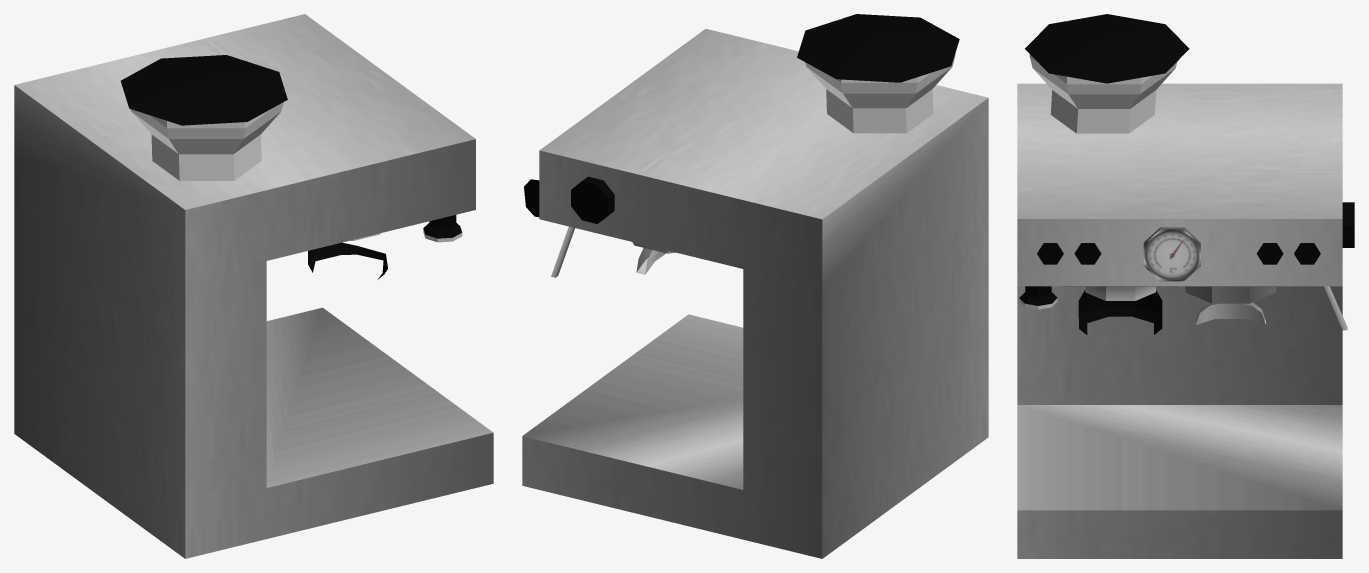
File: Mesin Expresso.fbx
3 views of the same model, side by side, from view 1: azimuth 30°, elevation 25°; view 2: azimuth 150°, elevation 25°; view 3: azimuth 270°, elevation 25° (orthographic). The views are drawn at different scales.
Visible parts, largest first — view 1: body, Cylinder.006, Cylinder, Cylinder.016, Cylinder.010; view 2: body, Cylinder.006, Cylinder, Cylinder.000; view 3: body, Cylinder.006, Cylinder, Cylinder.008, Cylinder.016, tombol, filter luar, salur luar, Cylinder.004, Cylinder.010, Cylinder.000.
Part boxes in pixels (x1=…): body: x1=14, y1=14, x2=493, y2=558; Cylinder.006: x1=120, y1=55, x2=287, y2=125; Cylinder: x1=130, y1=89, x2=283, y2=180; Cylinder.016: x1=308, y1=242, x2=387, y2=279; Cylinder.010: x1=423, y1=215, x2=461, y2=238; body: x1=522, y1=29, x2=988, y2=558; Cylinder.006: x1=797, y1=14, x2=959, y2=82; Cylinder: x1=805, y1=19, x2=955, y2=133; Cylinder.000: x1=571, y1=176, x2=614, y2=223; body: x1=1017, y1=83, x2=1342, y2=558; Cylinder.006: x1=1025, y1=14, x2=1189, y2=83; Cylinder: x1=1029, y1=21, x2=1177, y2=133; Cylinder.008: x1=1143, y1=227, x2=1200, y2=281; Cylinder.016: x1=1078, y1=290, x2=1162, y2=334; tombol: x1=1037, y1=243, x2=1320, y2=264; filter luar: x1=1185, y1=286, x2=1276, y2=303; salur luar: x1=1195, y1=302, x2=1265, y2=324; Cylinder.004: x1=1085, y1=286, x2=1155, y2=300; Cylinder.010: x1=1019, y1=286, x2=1057, y2=305; Cylinder.000: x1=1342, y1=202, x2=1354, y2=247.
Size of the model in its own units: 3.92 by 4.28 by 3.21.
